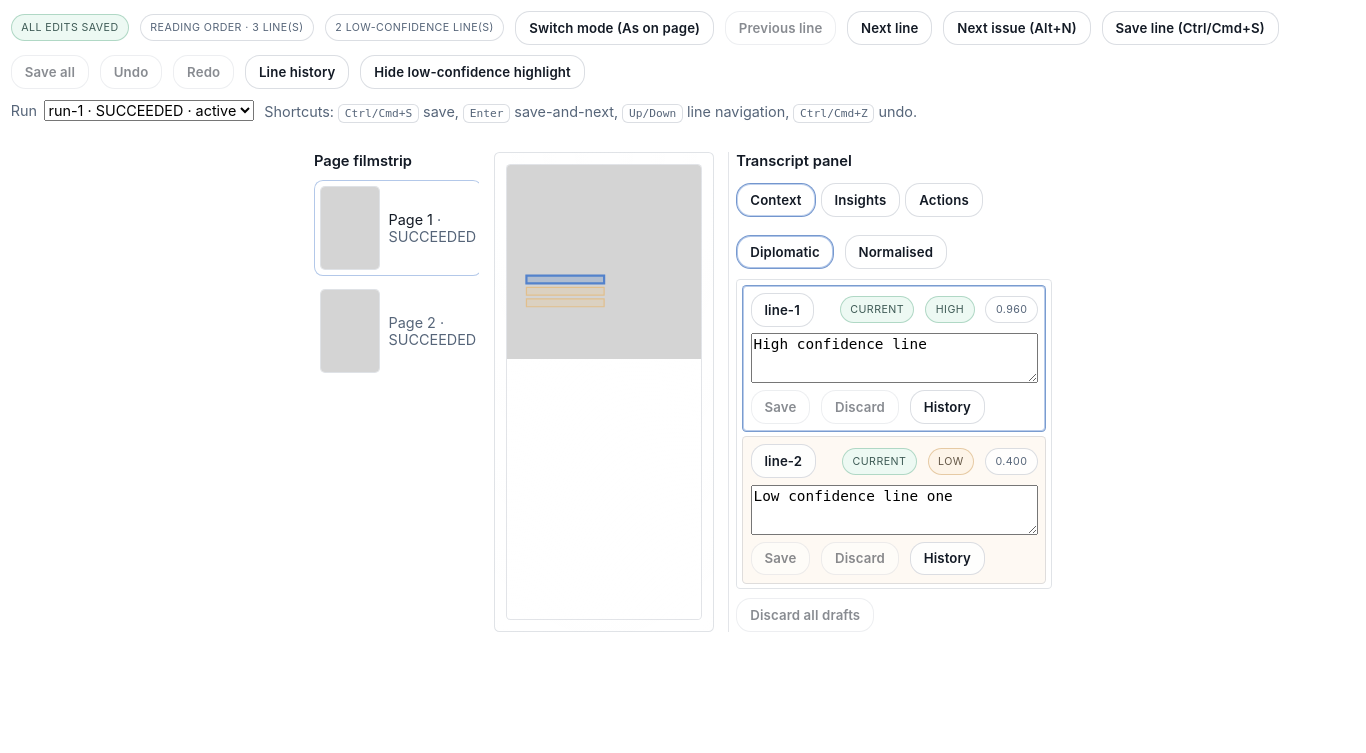
Scenario: transcription workspace interactions › surfaces conflict state and reload action on stale version
Clear the text box showing "High confidence line" below "0.960" at point(894, 358), box [750, 333, 1038, 383]
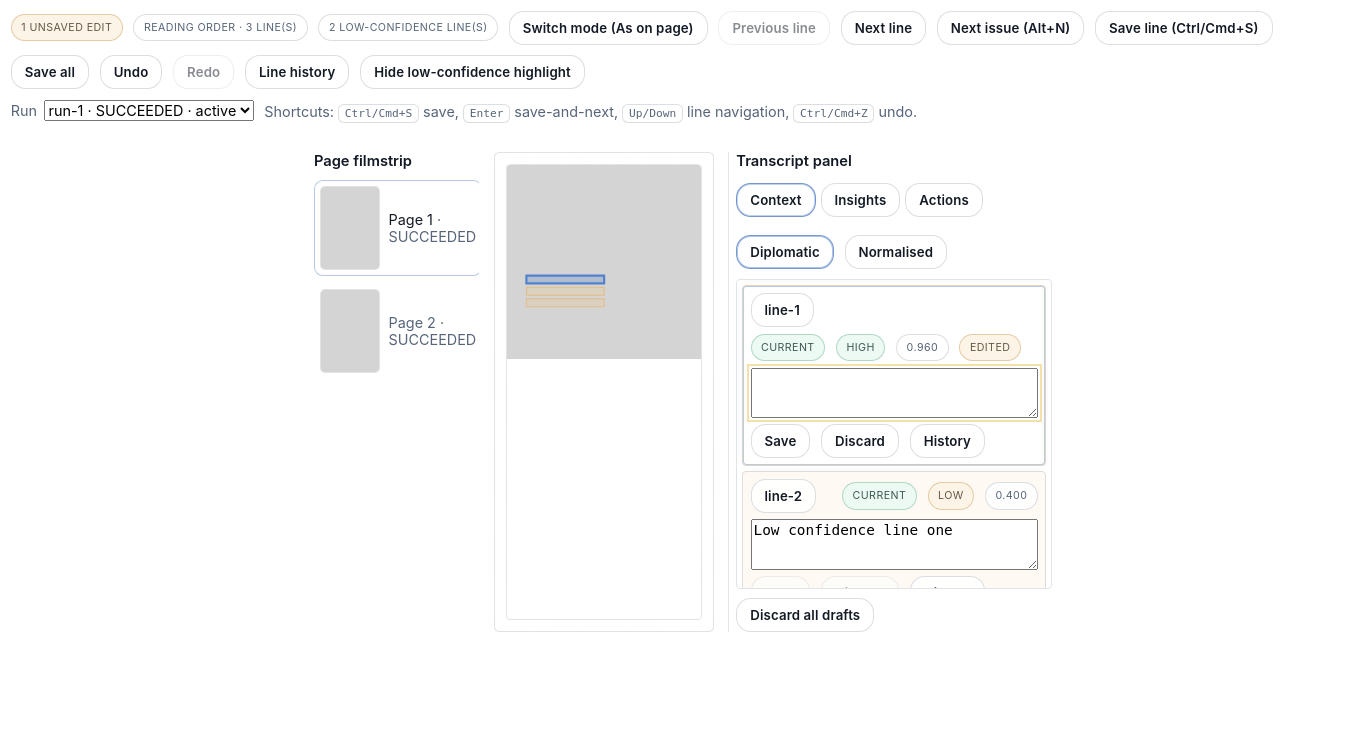
Type "High confidence line revised" into the text box showing "High confidence line" below "0.960" at point(894, 393), box [750, 368, 1038, 418]
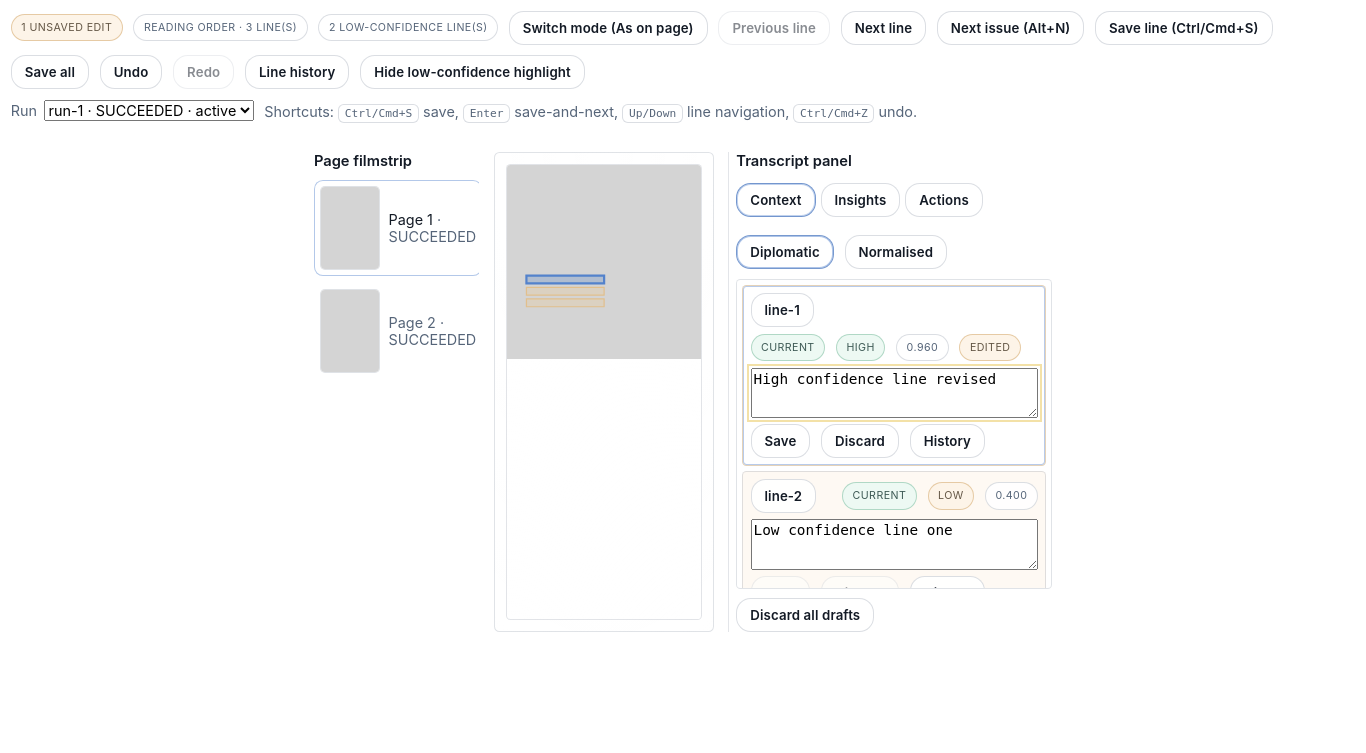
Click the button "Save line (Ctrl/Cmd+S)" at point(1184, 28), box [1095, 11, 1272, 45]
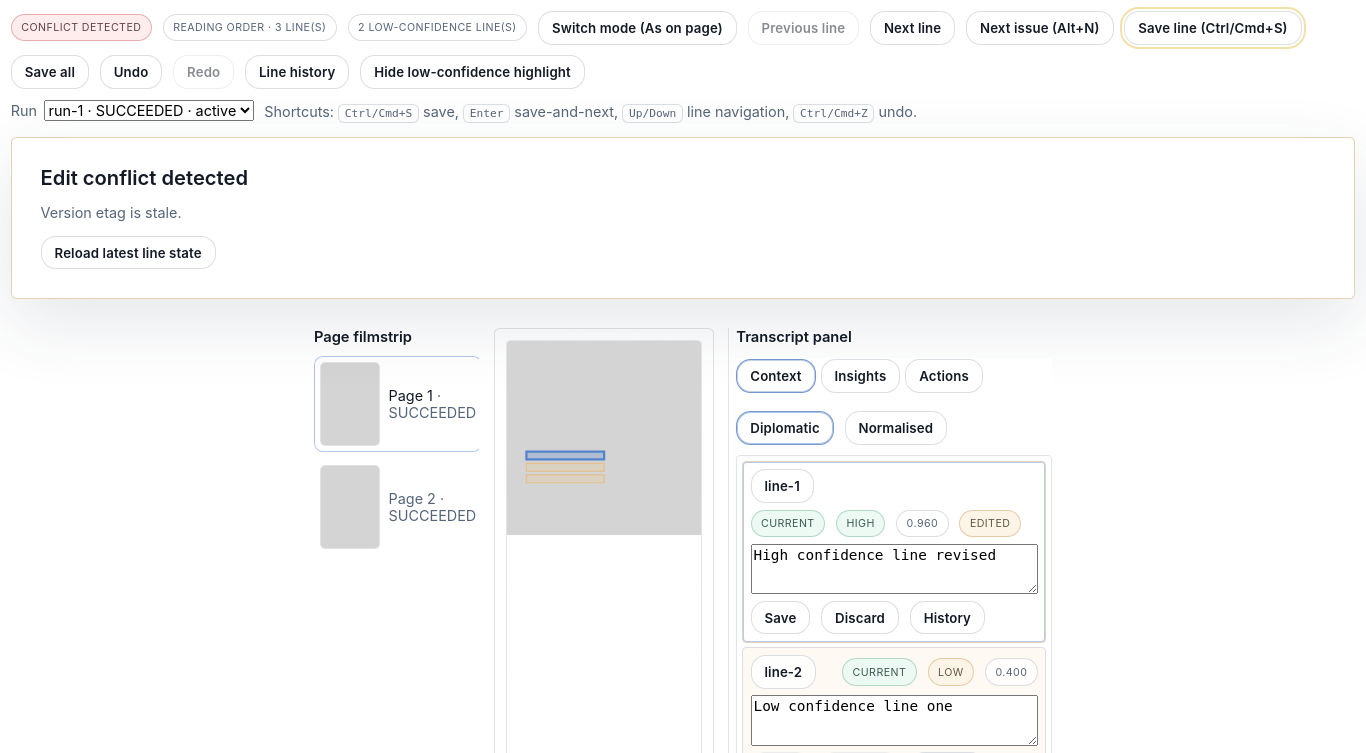
Expected: the heading "Edit conflict detected" is shown, [41, 165, 248, 190]
Expected: the button "Reload latest line state" is shown, [41, 236, 216, 269]
